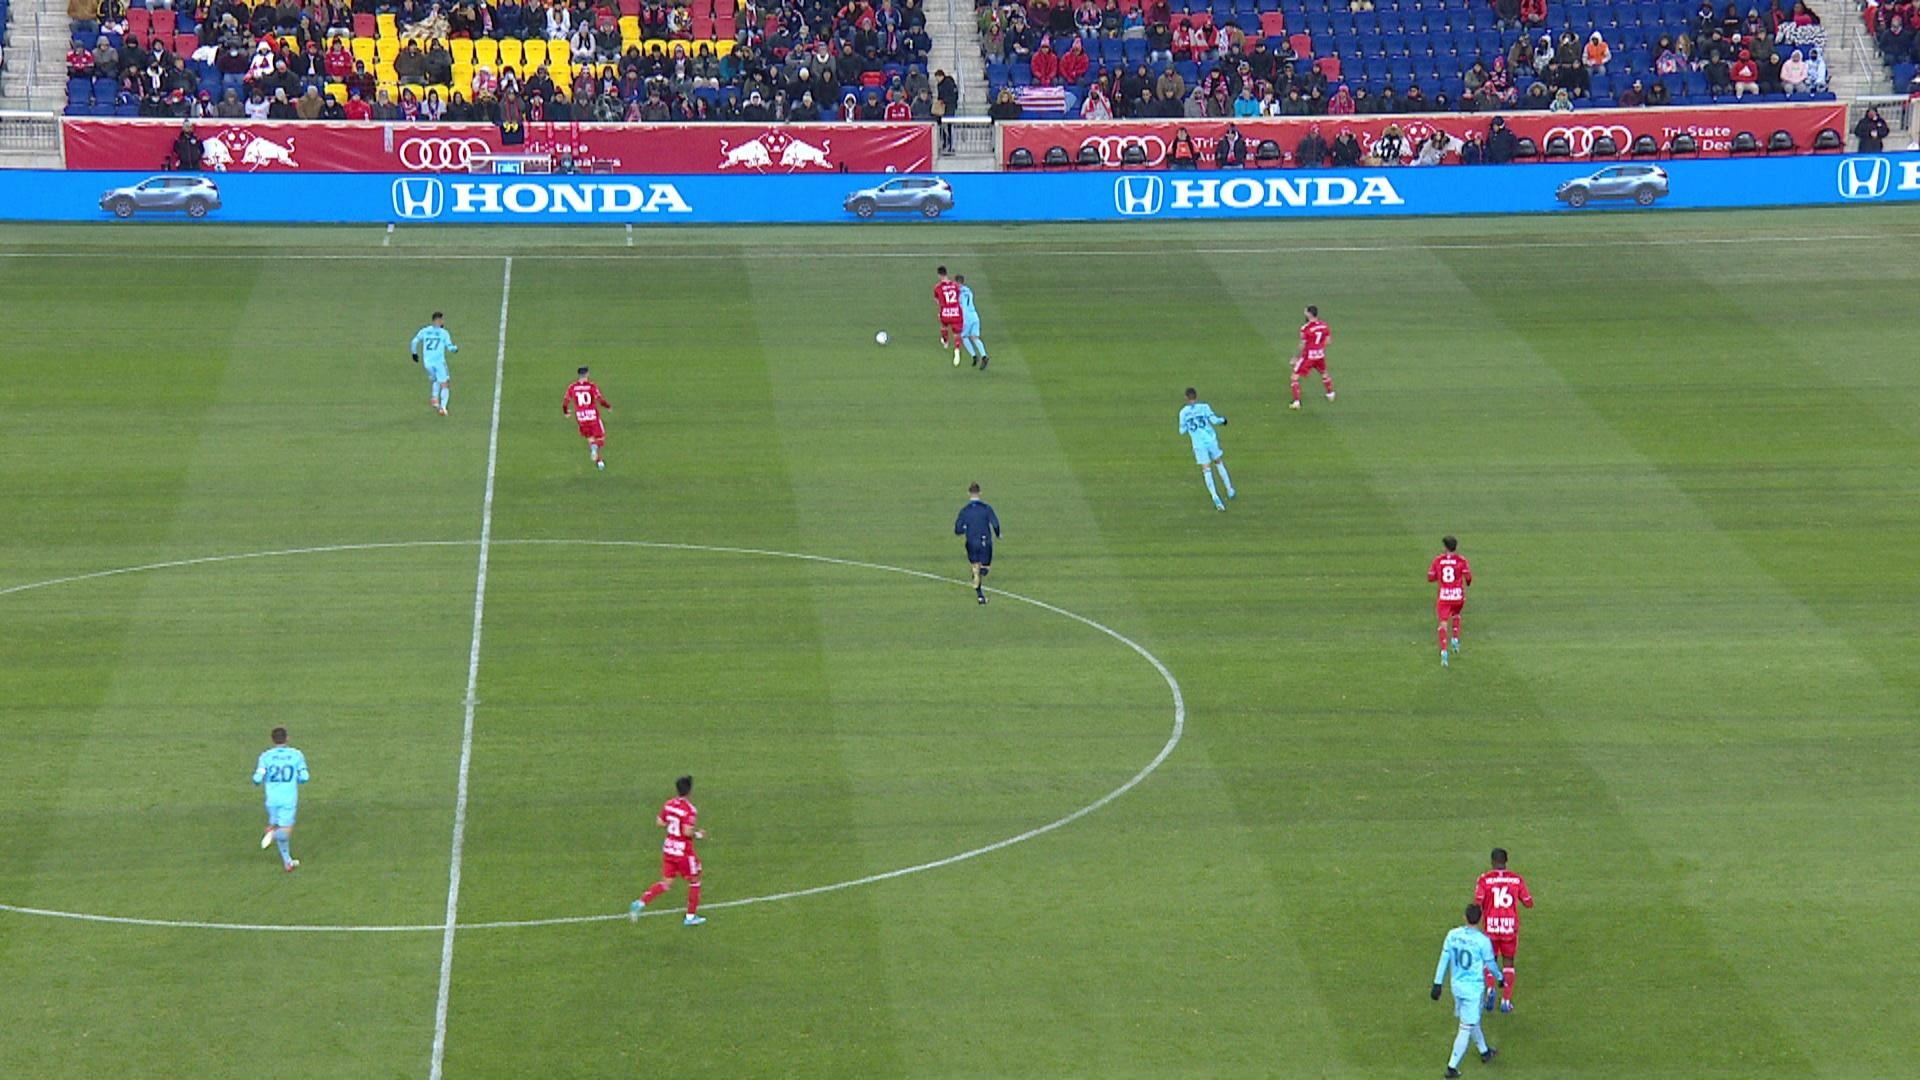football: (874, 330, 891, 345)
